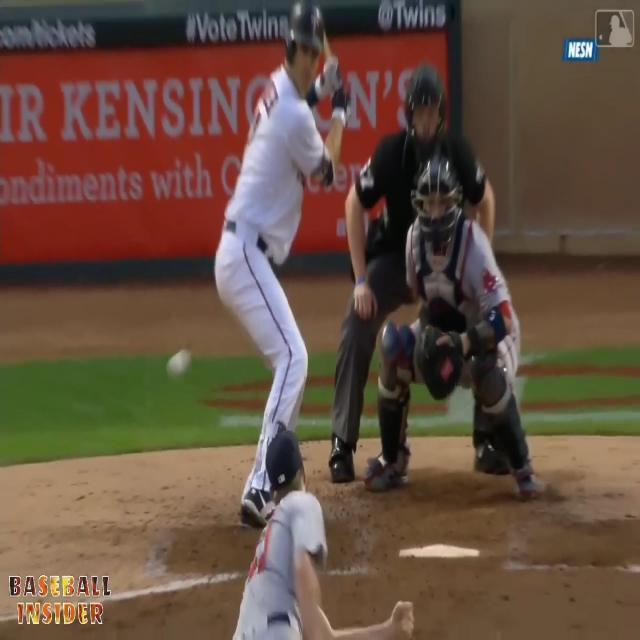ball: (167, 350, 191, 378)
